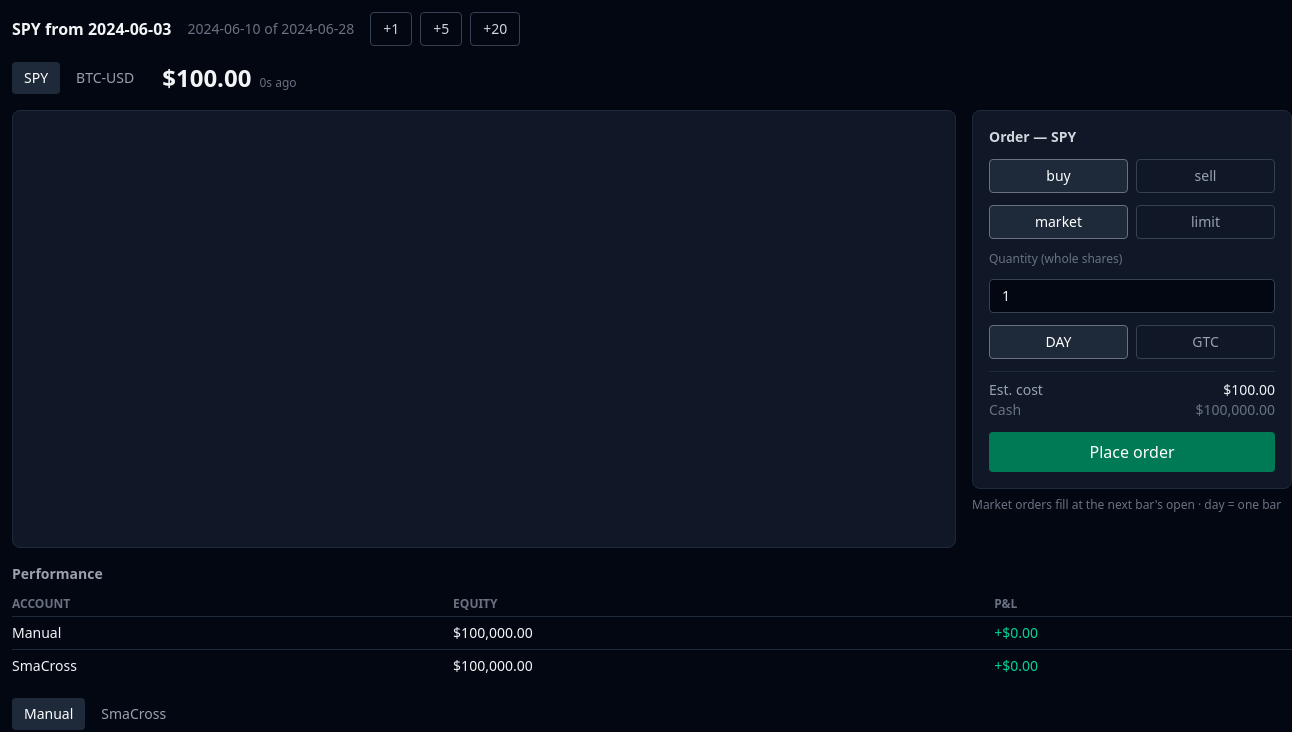
Test: steps the session and shows fills and strategy errors
The image size is (1292, 732).
Expected: the heading "SPY from 2024-06-03" is shown, [12,17,172,41]
Click the button "+1".
click(391, 29)  # box [370,12,412,46]
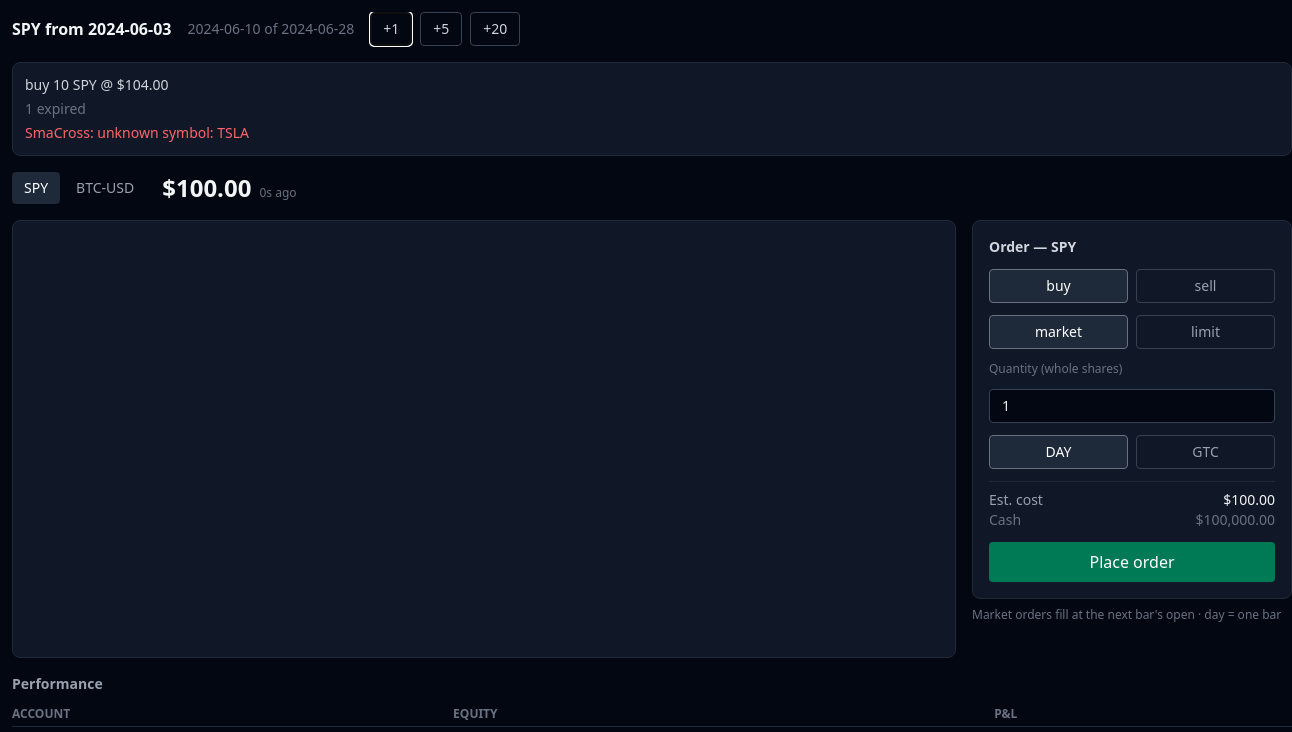
Now the text "buy 10 SPY @ $104.00" is shown, box [25,75,168,94]
Now the text "1 expired" is shown, box [25,99,86,118]
Now the text "SmaCross: unknown symbol: TSLA" is shown, box [25,123,249,142]
